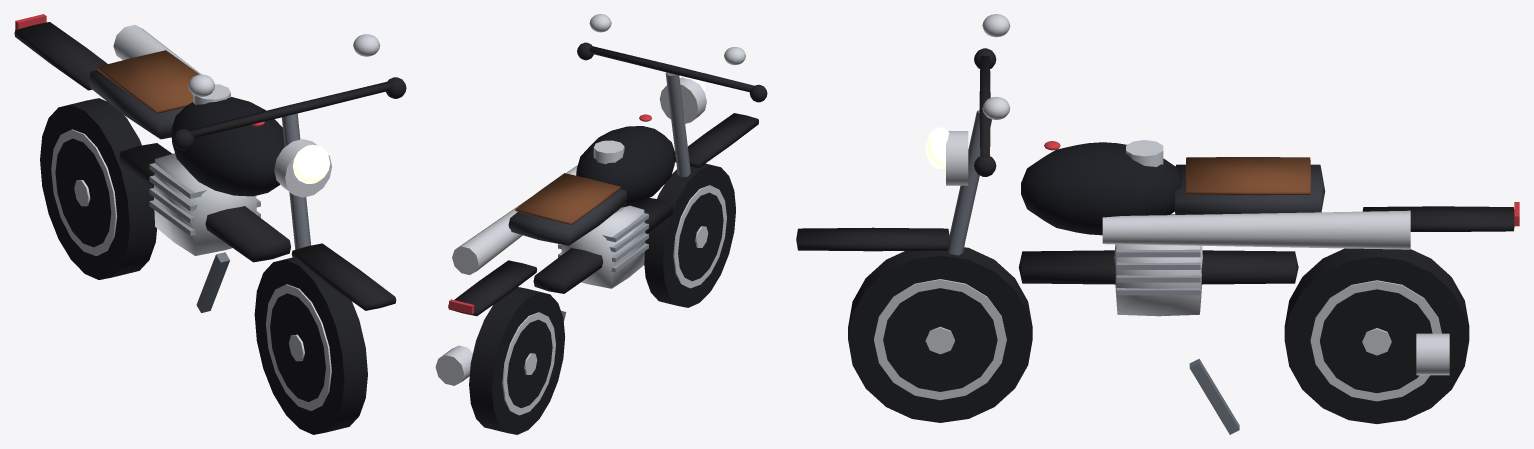
File: bullet_bike.glb
3 views of the same model, side by side, from view 1: azimuth 30°, elevation 25°; view 2: azimuth 150°, elevation 25°; view 3: azimuth 270°, elevation 25° (orthographic). The views are drawn at different scales.
Visible parts, largest first — view 1: root; view 2: root; view 3: root.
Boxes of the visible parts, x1=… form: root: x1=14, y1=14, x2=406, y2=434; root: x1=435, y1=14, x2=767, y2=434; root: x1=796, y1=14, x2=1519, y2=434.
Bounding box in the file's own units: 0.98 × 1.42 × 2.58.
